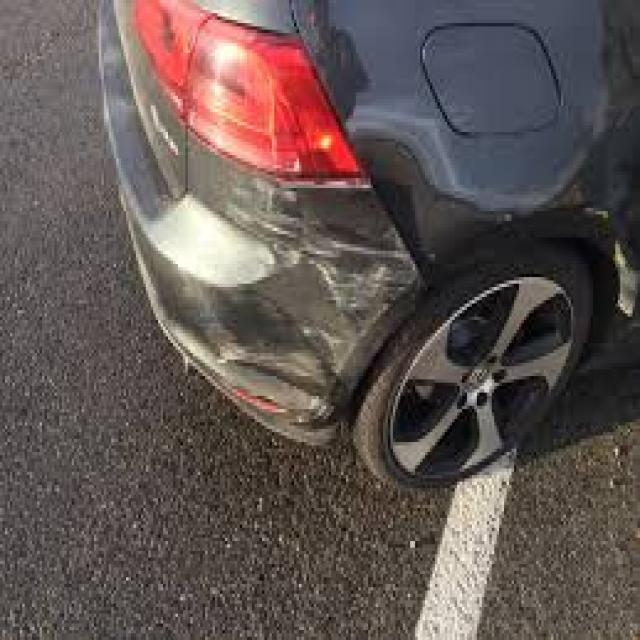minor: (244, 207, 380, 317)
